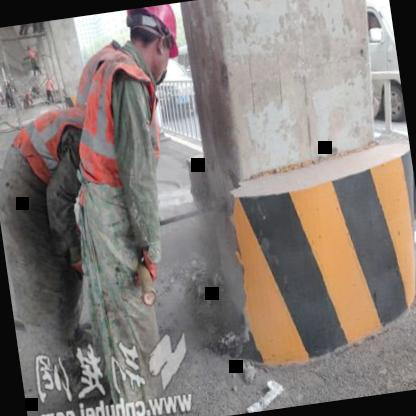helmet: (119, 3, 186, 84)
